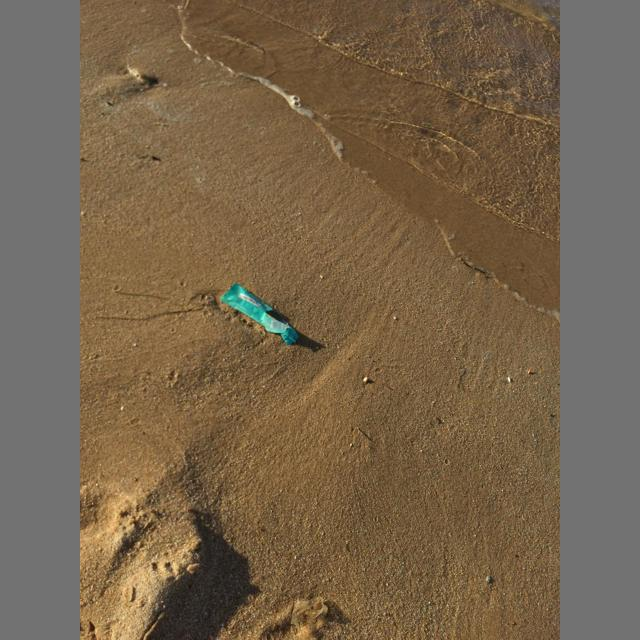litter: (220, 283, 299, 346), (291, 596, 328, 634)
